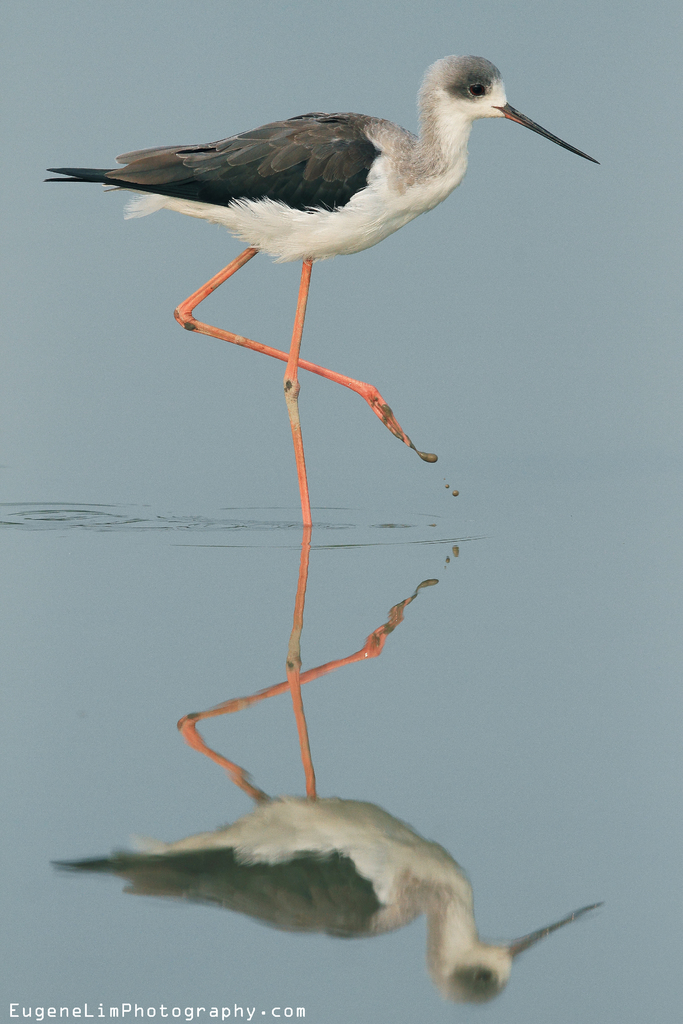Bird: (42, 54, 601, 524)
